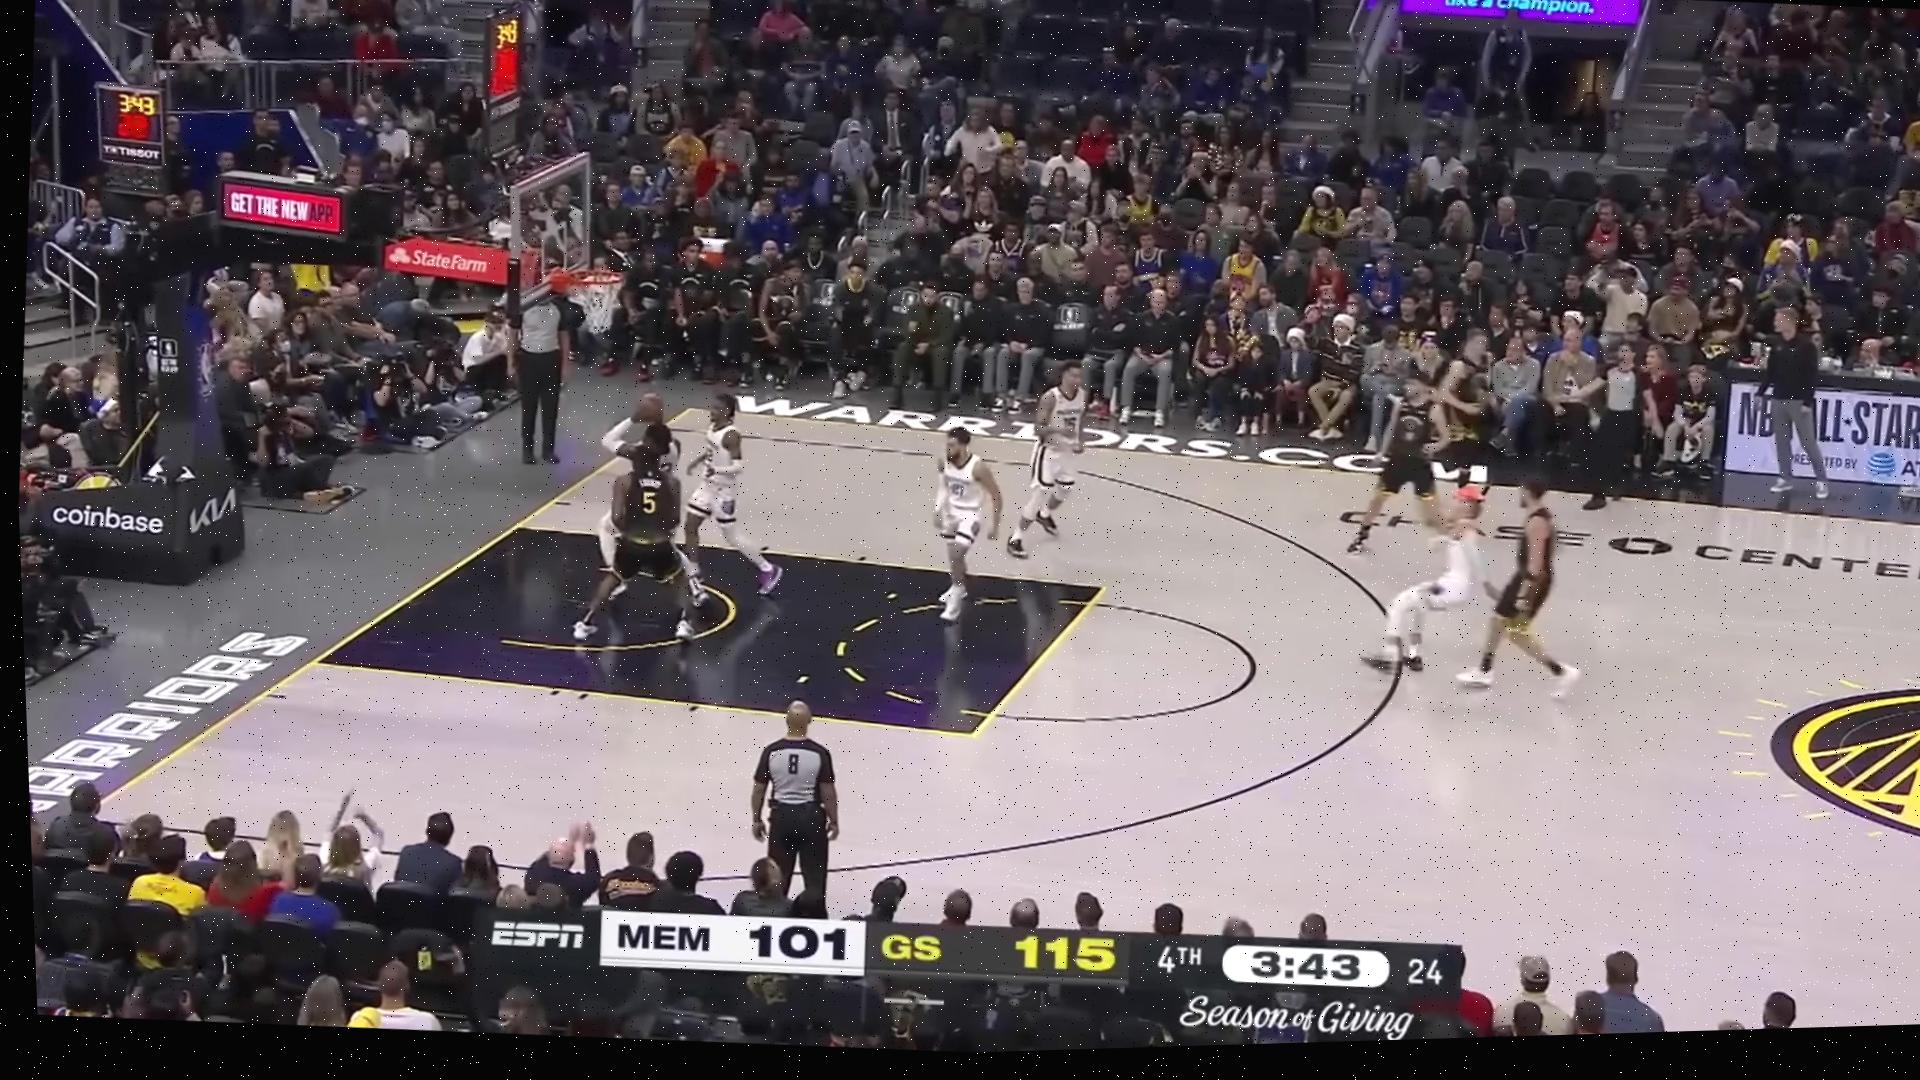no_foul: (550, 357, 789, 662)
